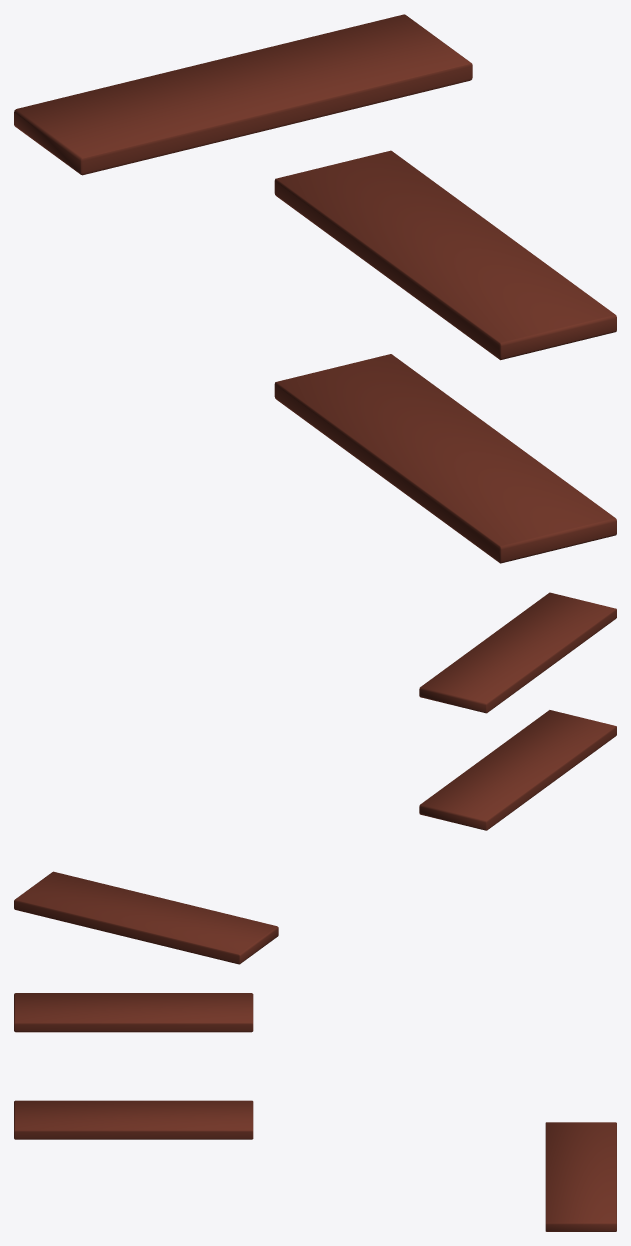
File: shelf.glb
3 renders of one model, top to bottom at view 1: azimuth 30°, elevation 25°; view 2: azimuth 150°, elevation 25°; view 3: azimuth 270°, elevation 25°, orthographic. The views are drawn at different scales.
Parts seen in each view (by area): view 1: TableTop2, TableTop4, TableTop3; view 2: TableTop2, TableTop4, TableTop3; view 3: TableTop3, TableTop4, TableTop2.
Boxes of the visible parts, <box> form: TableTop2: <box>14,14,472,175</box>; TableTop4: <box>274,150,616,360</box>; TableTop3: <box>274,354,616,563</box>; TableTop2: <box>14,871,278,964</box>; TableTop4: <box>419,592,616,713</box>; TableTop3: <box>419,710,616,830</box>; TableTop3: <box>14,1100,253,1139</box>; TableTop4: <box>14,993,253,1032</box>; TableTop2: <box>545,1122,616,1231</box>.
Size of the model in its own units: 1.66 by 0.7371 by 3.45.
